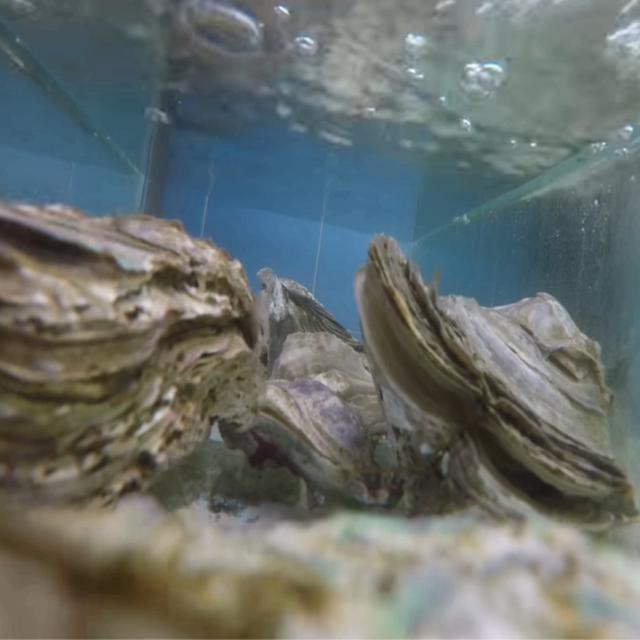Oyster-Closed: (0, 204, 260, 528), (252, 330, 412, 512)
Oyster-Indeterminate: (0, 494, 640, 640)
Oyster-Open: (354, 234, 640, 546)
